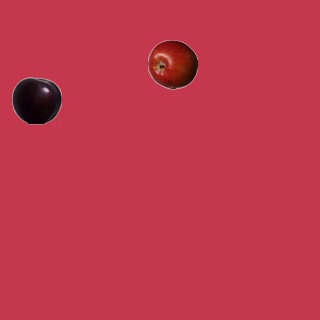Apple Braeburn: (147, 39, 197, 89)
Cherry Wax Black: (11, 75, 61, 125)
